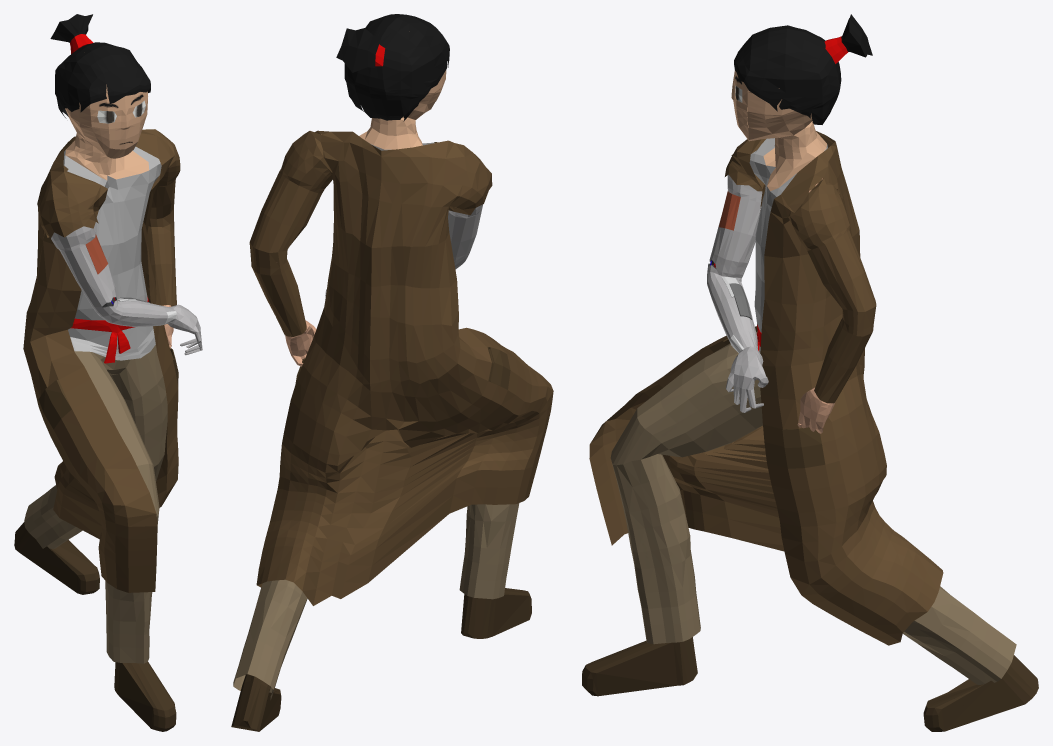
Rendered from One_DB_000001.obj.
The picture shows the model from 3 angles, left to right: view 1: azimuth 30°, elevation 25°; view 2: azimuth 150°, elevation 25°; view 3: azimuth 270°, elevation 25°; orthographic projection. The views are drawn at different scales.
Parts seen in each view (by area): view 1: Hair_Cube.004; view 2: Hair_Cube.004; view 3: Hair_Cube.004.
Part boxes in pixels (left/top/right/bottom): Hair_Cube.004: left=14, top=14, right=202, bottom=731; Hair_Cube.004: left=231, top=14, right=553, bottom=731; Hair_Cube.004: left=582, top=14, right=1038, bottom=731.
Bounding box in the file's own units: 1.09 × 3.59 × 2.16.
